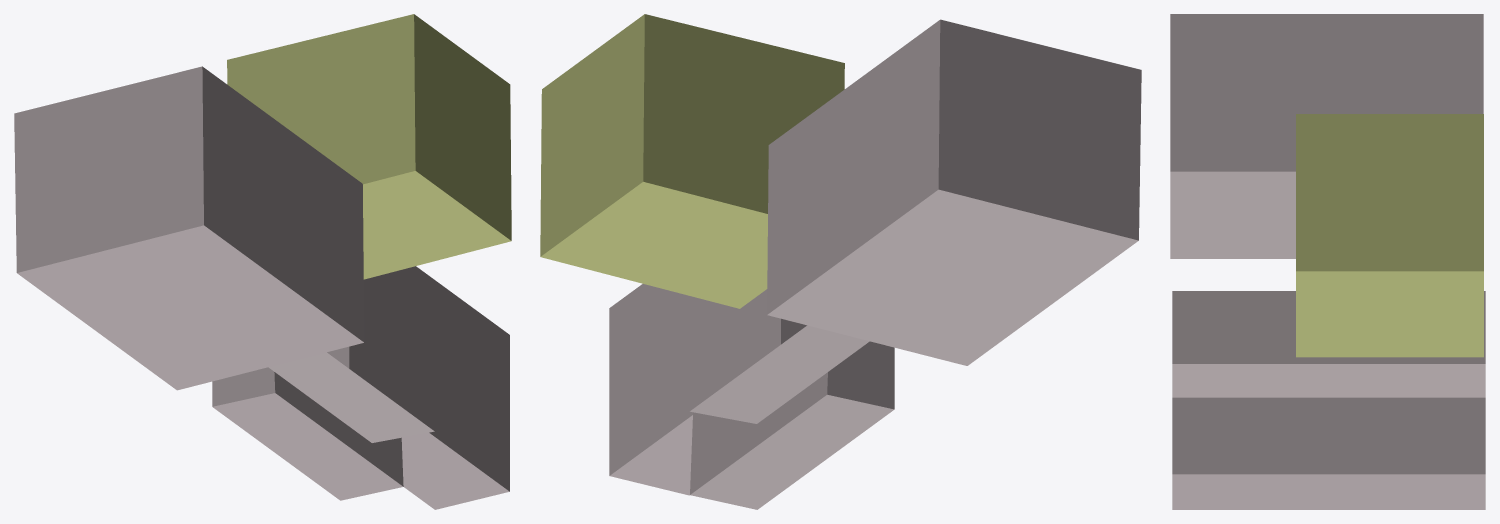
3 views of the same model, side by side, from view 1: azimuth 30°, elevation 25°; view 2: azimuth 150°, elevation 25°; view 3: azimuth 270°, elevation 25° (orthographic). The views are drawn at different scales.
Visible parts, largest first — view 1: 0_2_2_0_0_0_1_1_2_1; view 2: 0_2_2_0_0_0_1_1_2_1; view 3: 0_2_2_0_0_0_1_1_2_1.
Boxes of the visible parts, bbox=[...] form: 0_2_2_0_0_0_1_1_2_1: bbox=[14, 14, 511, 509]; 0_2_2_0_0_0_1_1_2_1: bbox=[540, 14, 1141, 509]; 0_2_2_0_0_0_1_1_2_1: bbox=[1170, 14, 1485, 509].
Bounding box in the file's own units: 21.69 × 17.82 × 15.09.
